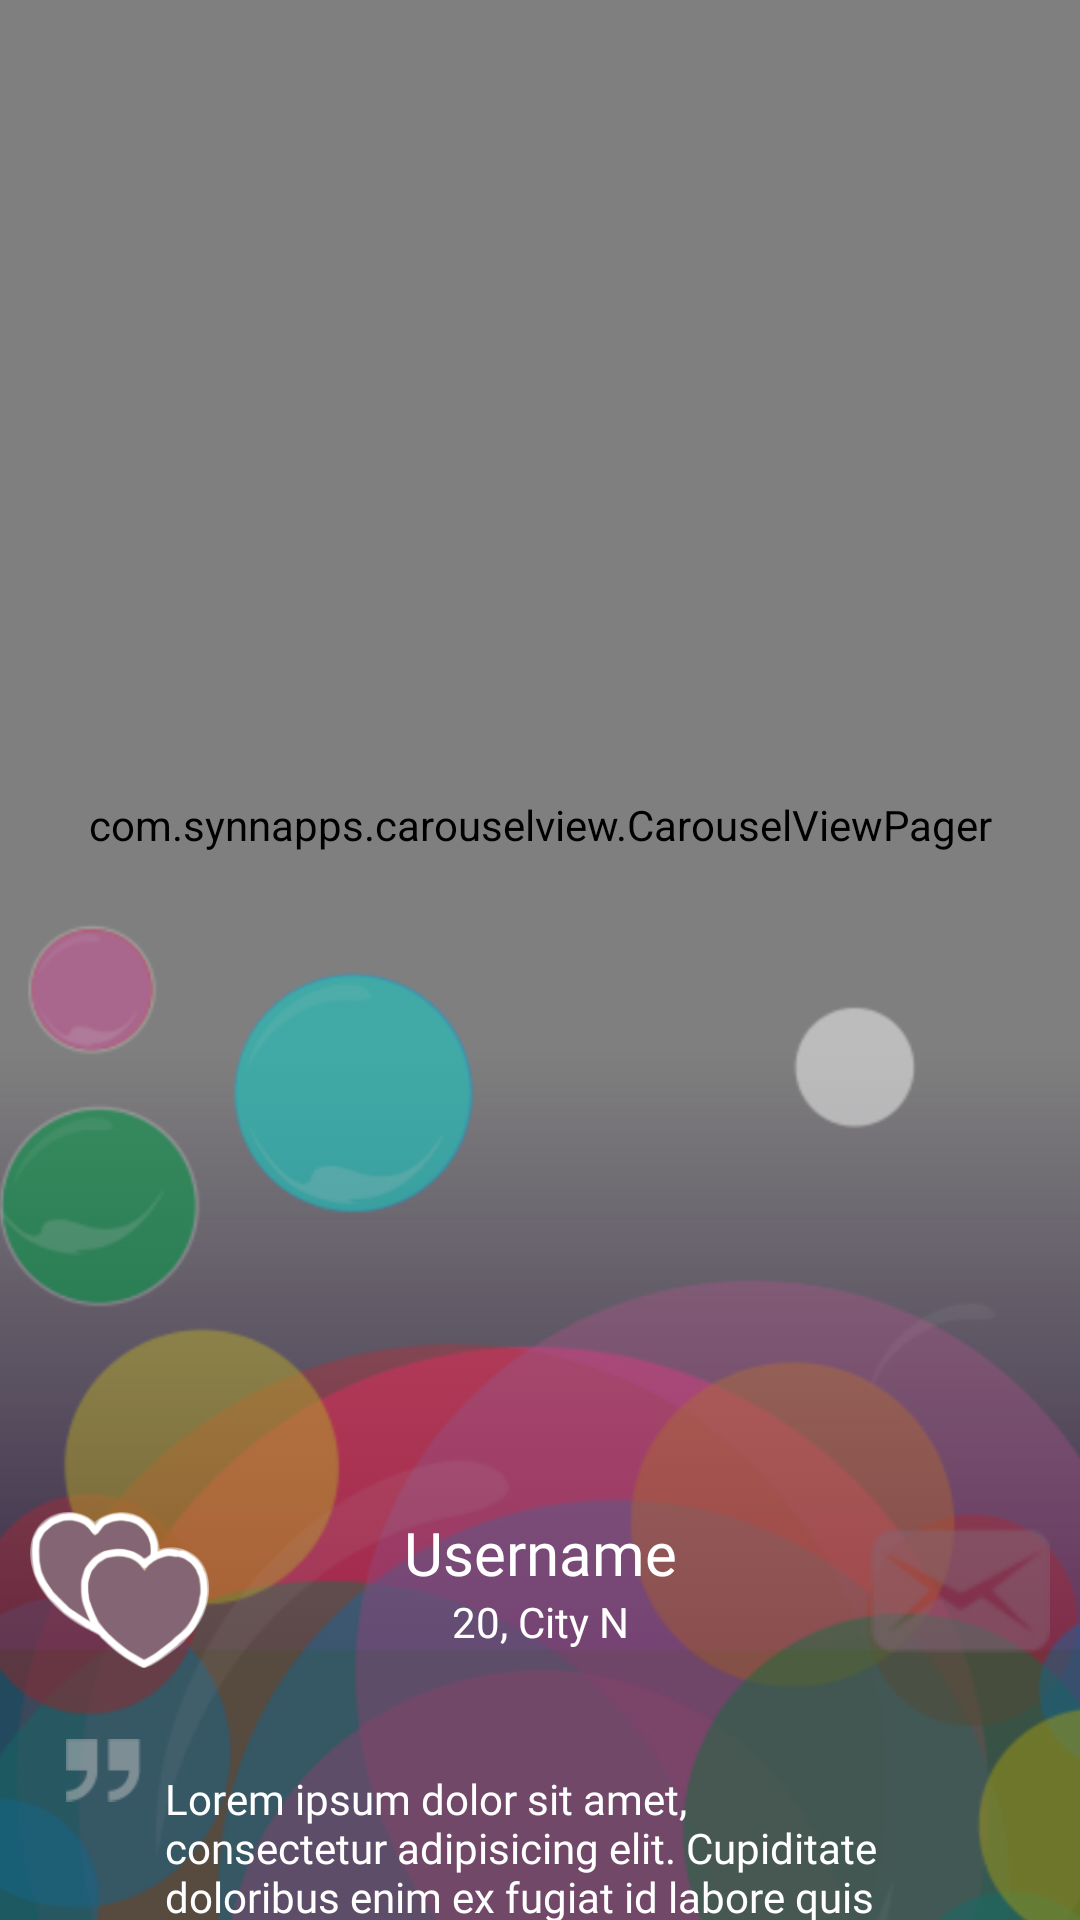

Point at icon controls on the screen. Image size 1080×1920, points as (x=x, y=y).
about me: (x=103, y=1770)
like button: (x=120, y=1590)
message button: (x=960, y=1590)
